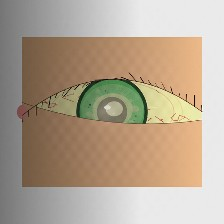corneal_ulcer: (80, 84, 145, 136)
